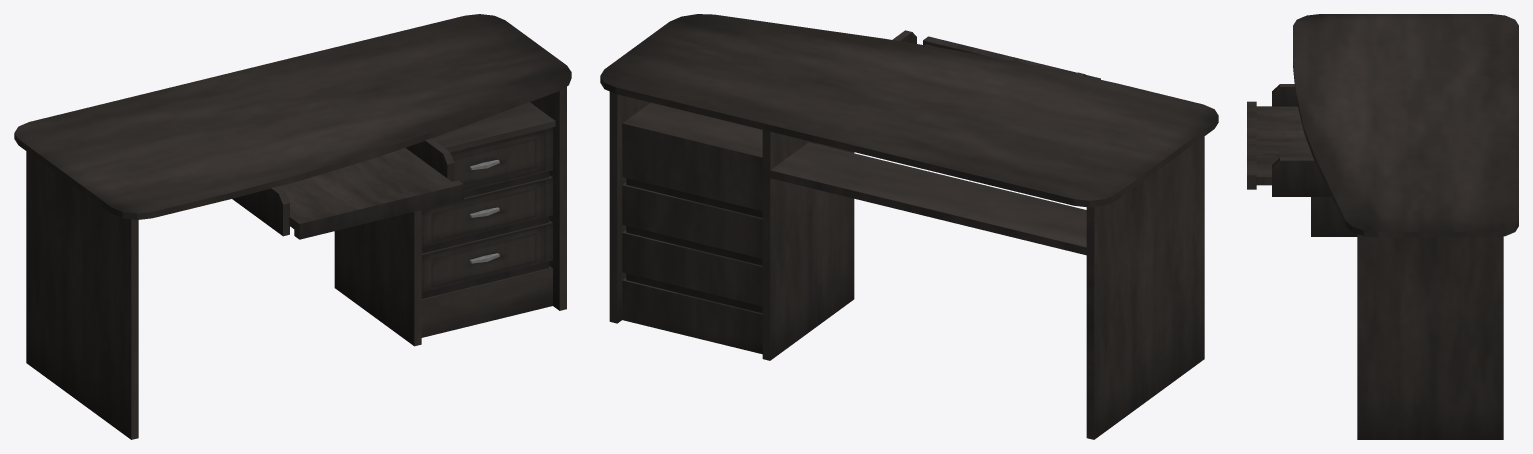
File: Desk.fbx
3 renders of one model, left to right at view 1: azimuth 30°, elevation 25°; view 2: azimuth 150°, elevation 25°; view 3: azimuth 270°, elevation 25°, orthographic. The views are drawn at different scales.
Parts seen in each view (by area): view 1: Desk, KeyboardDrawer; view 2: Desk, KeyboardDrawer; view 3: Desk, KeyboardDrawer.
Boxes of the visible parts, bbox=[...] form: Desk: bbox=[14, 14, 571, 439]; KeyboardDrawer: bbox=[278, 148, 463, 239]; Desk: bbox=[600, 14, 1218, 439]; KeyboardDrawer: bbox=[923, 36, 1100, 79]; Desk: bbox=[1272, 14, 1518, 439]; KeyboardDrawer: bbox=[1247, 101, 1312, 189].
Bounding box in the file's own units: 1.65 × 0.7545 × 0.8718.
